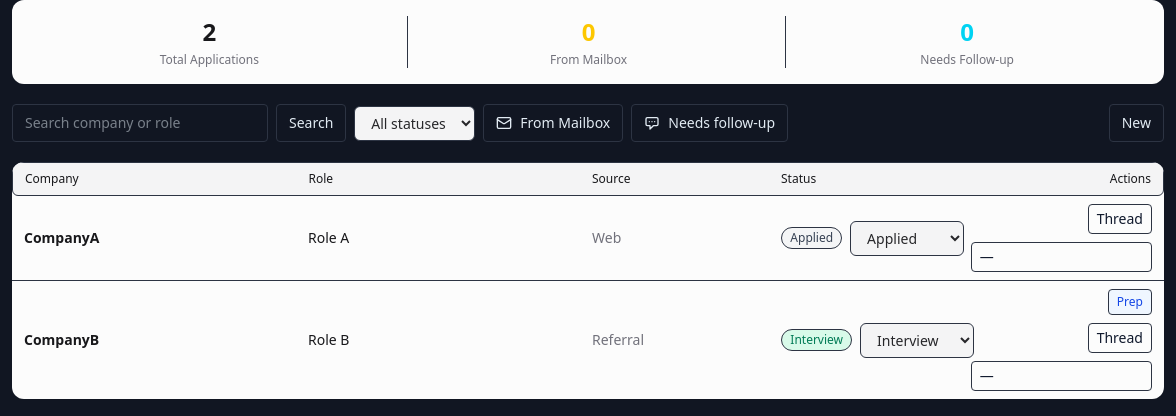
Test: Tracker From Mailbox Filter › should handle case where no applications have thread_id
Expected: the number of elements with test id "tracker-row" is 2, [12, 196, 1164, 281]; [12, 281, 1164, 399]
# Enable filter
Click the button with test id "filter-from-mailbox" at (553, 123), box [483, 104, 623, 142]
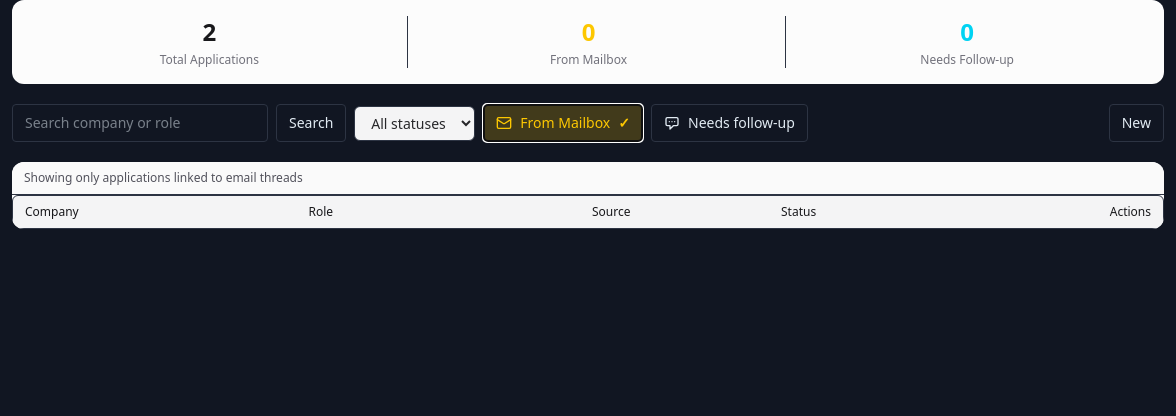
Expected: no elements with test id "tracker-row" are shown
